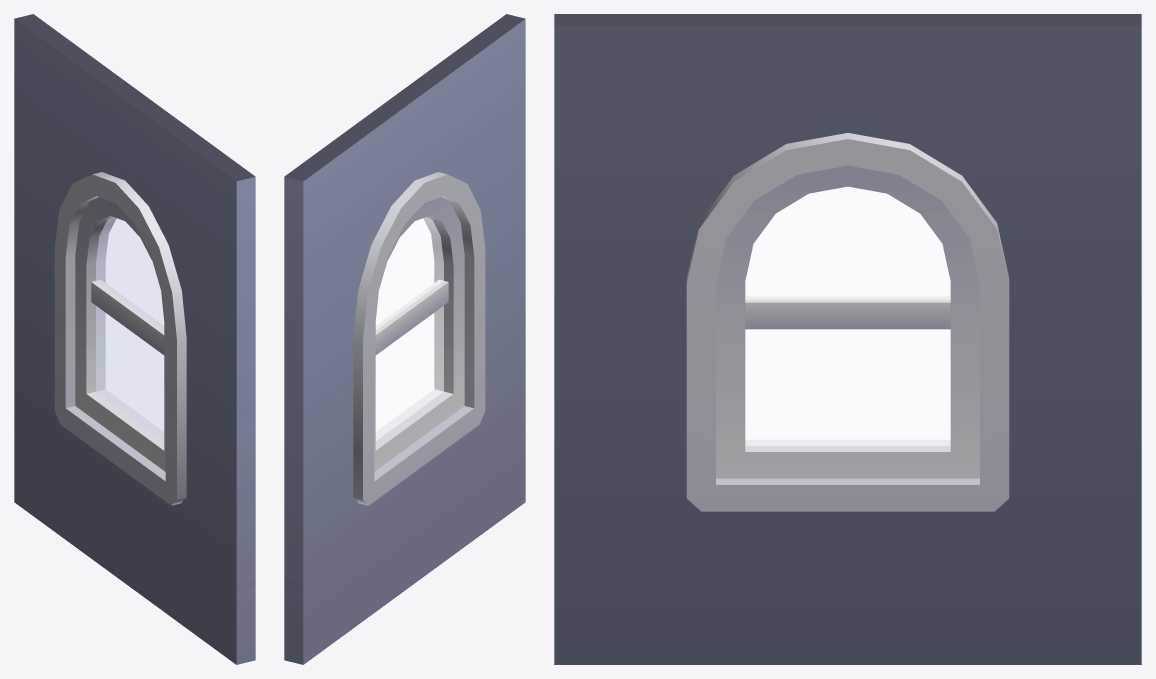
File: wall-window-round-detailed.optimized.glb
The picture shows the model from 3 angles, left to right: view 1: azimuth 30°, elevation 25°; view 2: azimuth 150°, elevation 25°; view 3: azimuth 270°, elevation 25°; orthographic projection. The views are drawn at different scales.
Visible parts, largest first — view 1: wall-window-round-detailed, (%ignore); view 2: wall-window-round-detailed, (%ignore); view 3: wall-window-round-detailed, (%ignore).
Boxes of the visible parts, <box> form: wall-window-round-detailed: <box>14,14,255,664</box>; (%ignore): <box>96,217,164,440</box>; wall-window-round-detailed: <box>284,14,525,664</box>; (%ignore): <box>375,217,443,440</box>; wall-window-round-detailed: <box>554,14,1141,664</box>; (%ignore): <box>745,186,950,445</box>.
Bounding box in the file's own units: 0.2001 × 2.4 × 2.
Materials: 2 (1 with a texture image).
